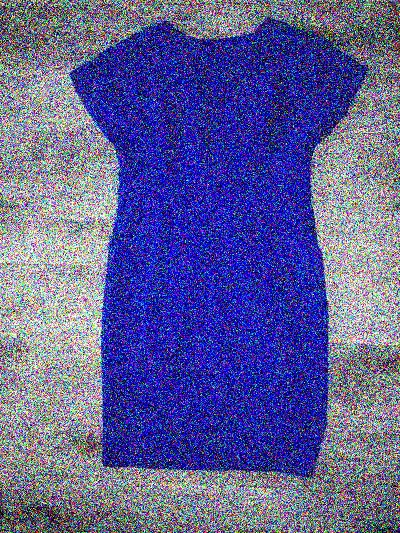Dress: (62, 16, 375, 484)
